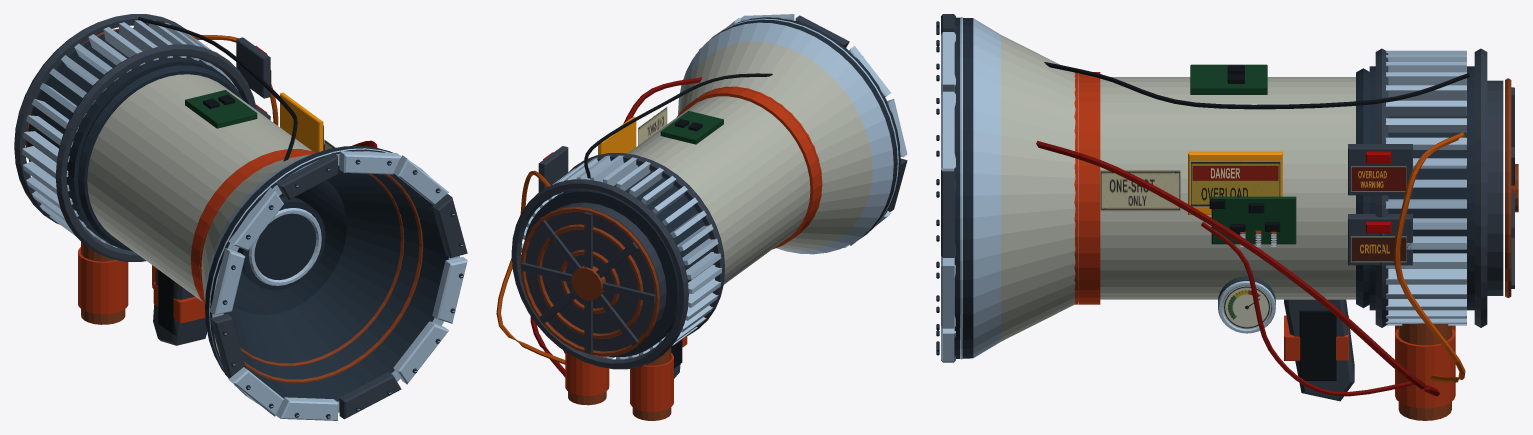
The model's file is ScrapSonic.obj.
The picture shows the model from 3 angles, left to right: view 1: azimuth 30°, elevation 25°; view 2: azimuth 150°, elevation 25°; view 3: azimuth 270°, elevation 25°; orthographic projection. The views are drawn at different scales.
Visible parts, largest first — view 1: DarkSteel, Casing, Steel, Housing, Tape, Copper, Rubber, Board, BladeYellow; view 2: Casing, Housing, Steel, DarkSteel, Tape, Copper, Rubber, Board, WireOrange, WireRed, BladeYellow, Label; view 3: Casing, Steel, Housing, DarkSteel, Tape, Label, Rubber, Board, WireRed, Copper, WireOrange, GaugePrint (+2 smaller).
Part boxes in pixels (x1,y1,x2,y2): DarkSteel: [27, 28, 463, 418]; Casing: [87, 74, 311, 301]; Steel: [22, 20, 467, 420]; Housing: [14, 14, 467, 419]; Tape: [78, 149, 316, 323]; Copper: [25, 28, 422, 383]; Rubber: [138, 17, 324, 335]; Board: [185, 90, 257, 128]; BladeYellow: [280, 92, 323, 152]; Casing: [627, 41, 872, 284]; Housing: [511, 15, 907, 378]; Steel: [521, 14, 907, 359]; DarkSteel: [524, 17, 900, 357]; Tape: [565, 86, 822, 411]; Copper: [520, 206, 671, 420]; Rubber: [584, 73, 772, 368]; Board: [660, 111, 723, 144]; WireOrange: [496, 170, 565, 364]; WireRed: [530, 77, 702, 377]; BladeYellow: [598, 116, 636, 154]; Label: [598, 107, 667, 154]; Casing: [1001, 35, 1355, 341]; Steel: [941, 17, 1466, 361]; Housing: [941, 14, 1514, 401]; DarkSteel: [936, 17, 1474, 358]; Tape: [1074, 72, 1455, 408]; Label: [1100, 160, 1406, 262]; Rubber: [1044, 62, 1469, 380]; Board: [1190, 64, 1296, 244]; WireRed: [1036, 140, 1439, 396]; Copper: [1240, 78, 1518, 420]; WireOrange: [1394, 132, 1465, 382]; GaugePrint: [1223, 285, 1270, 329].
Size of the model in its own units: 0.5731 by 0.6469 by 0.9408.
Materials: 14 (2 with a texture image).
